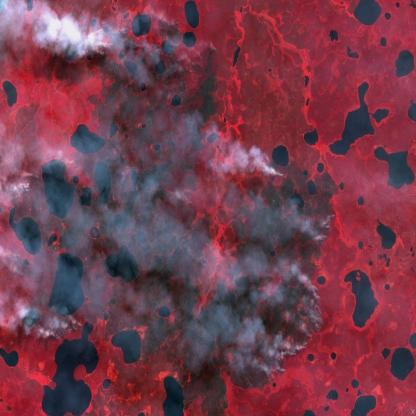fire: (260, 145, 339, 380), (163, 28, 222, 83), (74, 15, 123, 64), (36, 302, 86, 350), (2, 155, 41, 210)
